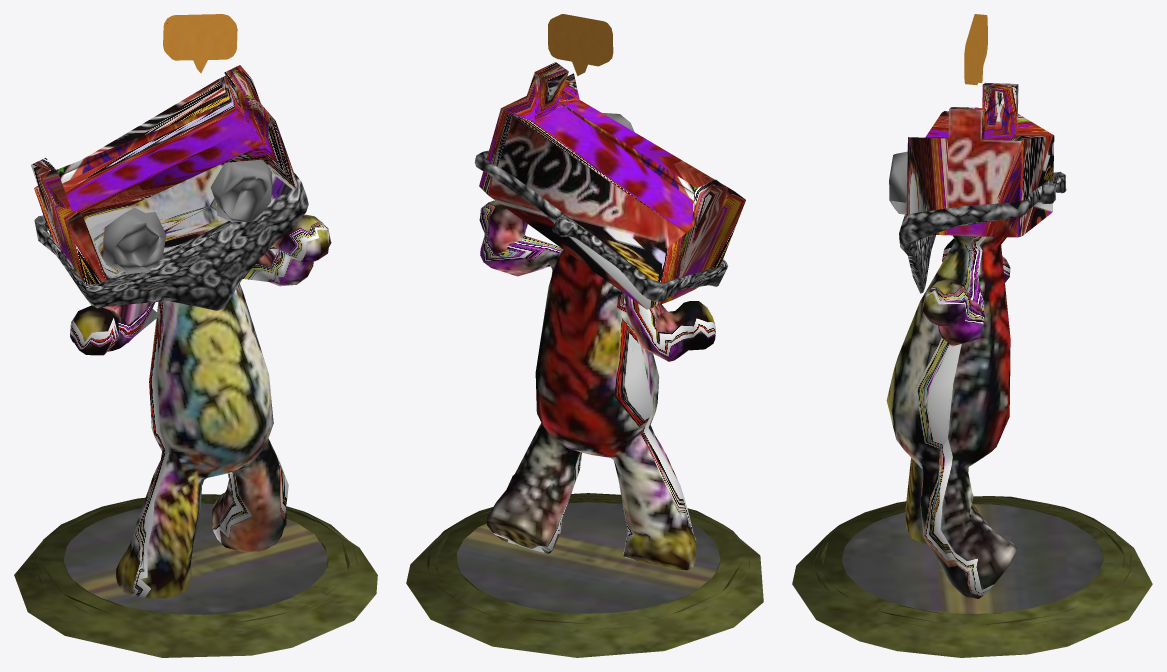
The picture shows the model from 3 angles, left to right: view 1: azimuth 30°, elevation 25°; view 2: azimuth 150°, elevation 25°; view 3: azimuth 270°, elevation 25°; orthographic projection.
Bounding box in the file's own units: 1.44 × 2.47 × 1.45.
Materials: 7 (6 with a texture image).
